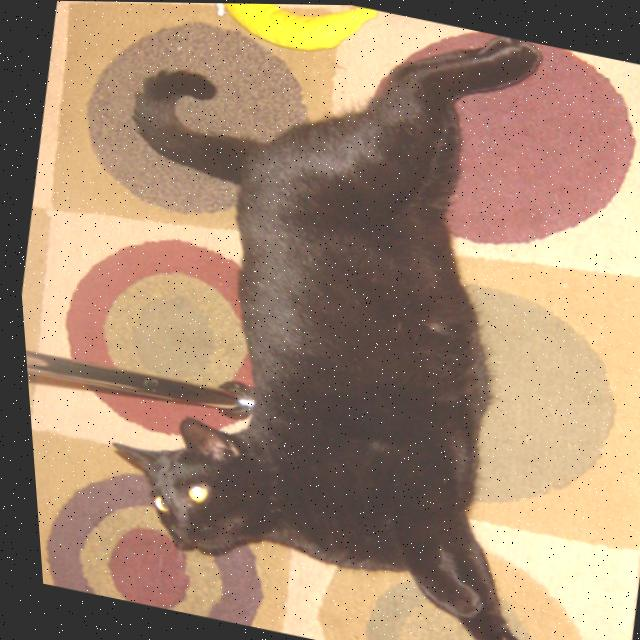Bombay: (25, 0, 640, 640)
